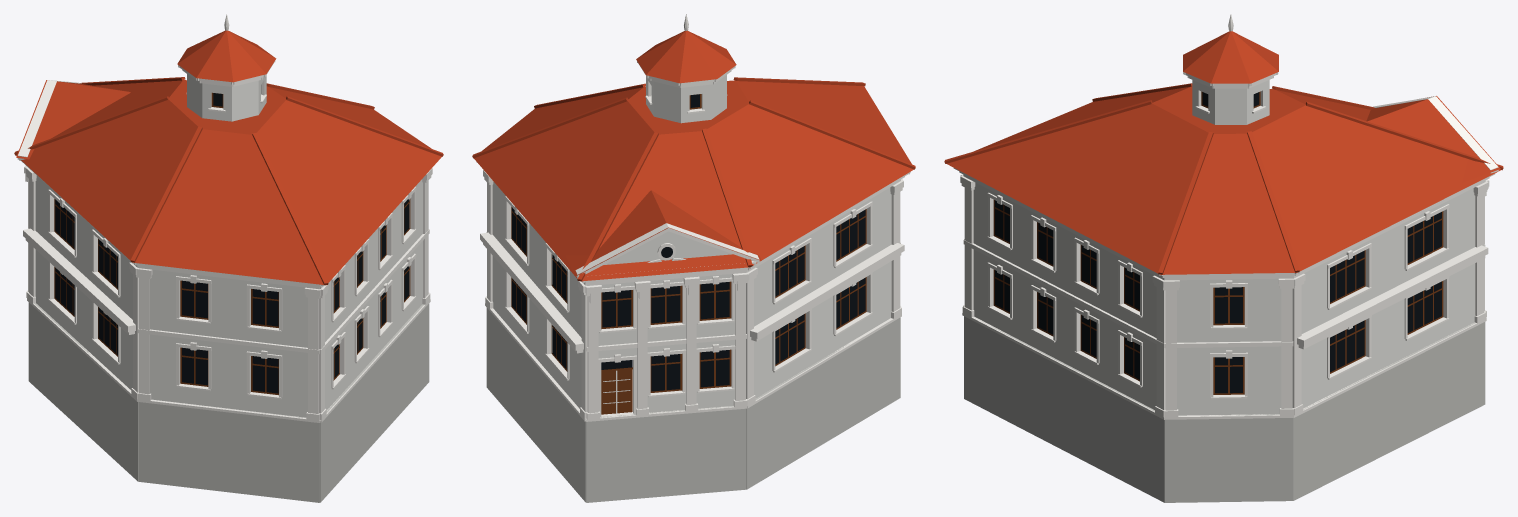
File: kat28.glb
3 views of the same model, side by side, from view 1: azimuth 30°, elevation 25°; view 2: azimuth 150°, elevation 25°; view 3: azimuth 270°, elevation 25° (orthographic). The views are drawn at different scales.
Parts seen in each view (by area): view 1: kat28_roof, kat28_stone, kat28_wall, kat28_trim, kat28_glass, kat28_wood; view 2: kat28_roof, kat28_stone, kat28_trim, kat28_wall, kat28_glass, kat28_wood; view 3: kat28_roof, kat28_stone, kat28_wall, kat28_trim, kat28_glass, kat28_wood.
Boxes of the visible parts, box(x1,y1,x2,y2) form: kat28_roof: box(14, 30, 443, 285); kat28_stone: box(28, 302, 429, 502); kat28_wall: box(35, 74, 422, 417); kat28_trim: box(17, 61, 432, 422); kat28_glass: box(55, 93, 409, 393); kat28_wood: box(54, 92, 410, 395); kat28_roof: box(472, 30, 915, 281); kat28_stone: box(486, 308, 900, 502); kat28_trim: box(476, 61, 910, 421); kat28_wall: box(492, 75, 891, 412); kat28_glass: box(512, 94, 865, 391); kat28_wood: box(511, 94, 866, 414); kat28_roof: box(944, 31, 1503, 274); kat28_stone: box(964, 316, 1485, 502); kat28_wall: box(973, 80, 1475, 415); kat28_trim: box(953, 72, 1498, 419); kat28_glass: box(995, 92, 1441, 393); kat28_wood: box(993, 91, 1443, 394).
Size of the model in its own units: 18.28 by 19.6 by 24.7.
